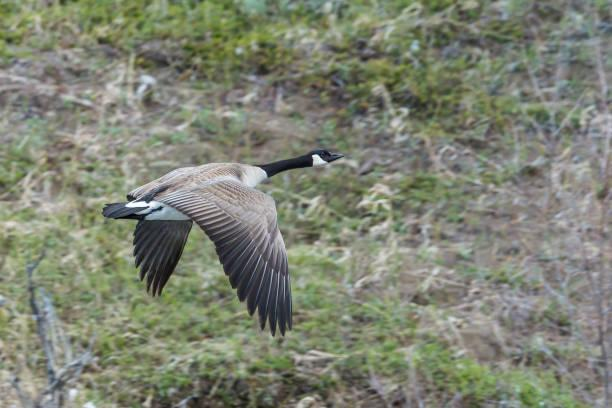Canadian-Goose: (94, 133, 349, 337)
